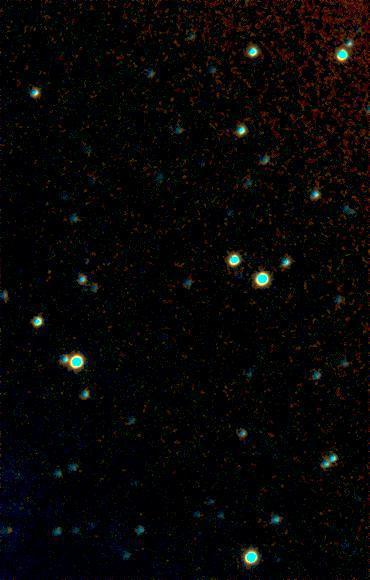star: (0, 515, 24, 545)
